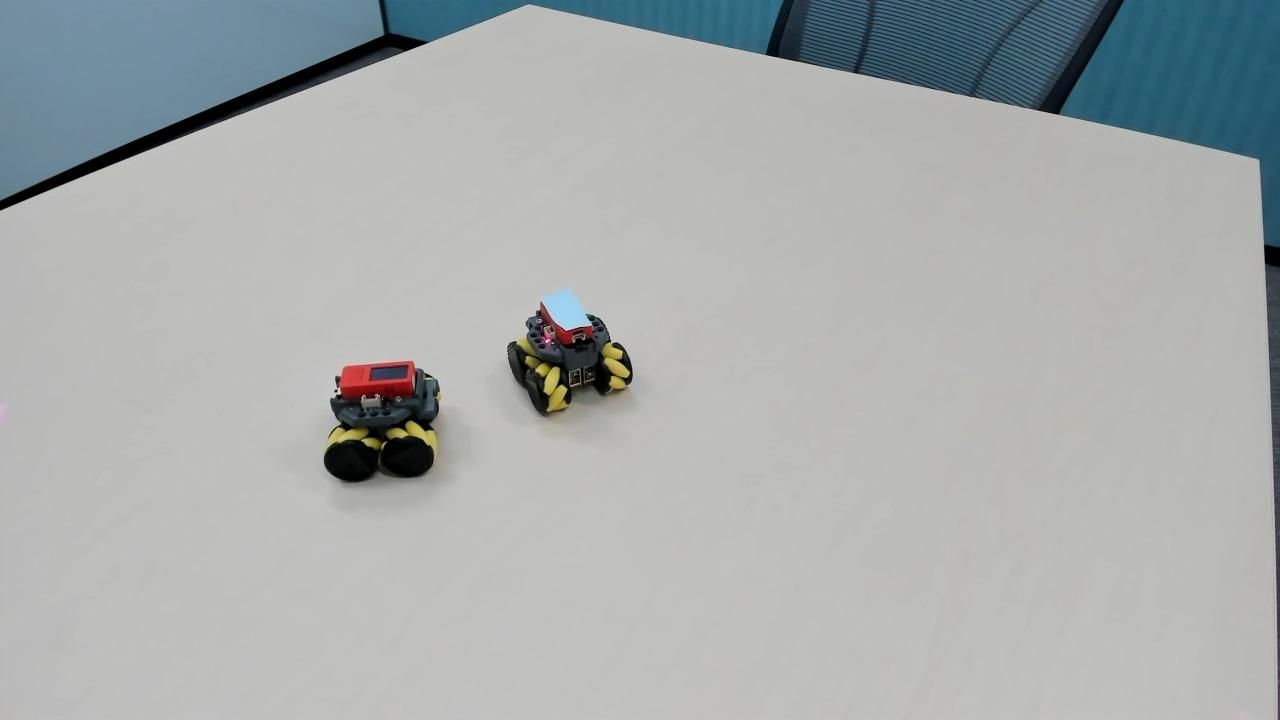B-Robot: (500, 290, 639, 430)
R-Robot: (308, 344, 460, 500)
